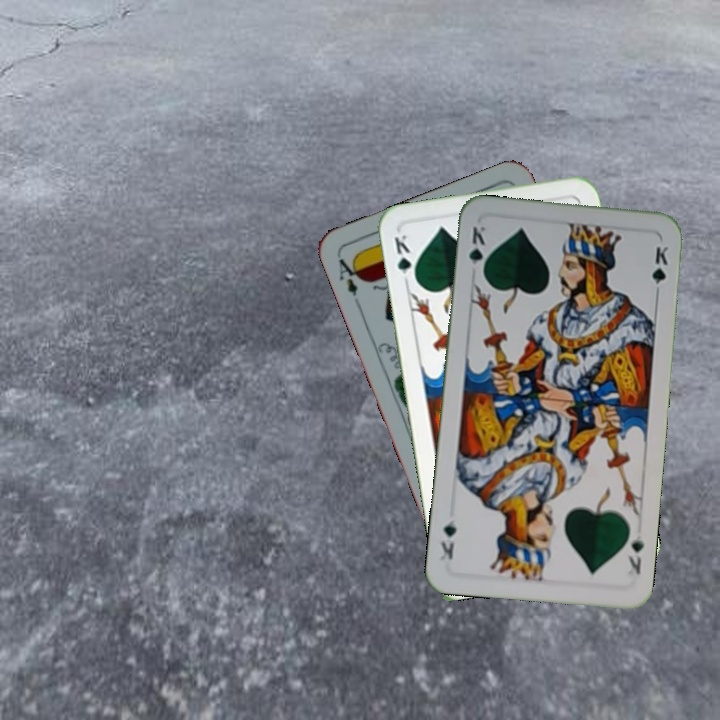EA: (334, 254, 365, 309)
GK: (390, 230, 419, 288), (464, 222, 488, 279), (624, 531, 646, 577)
